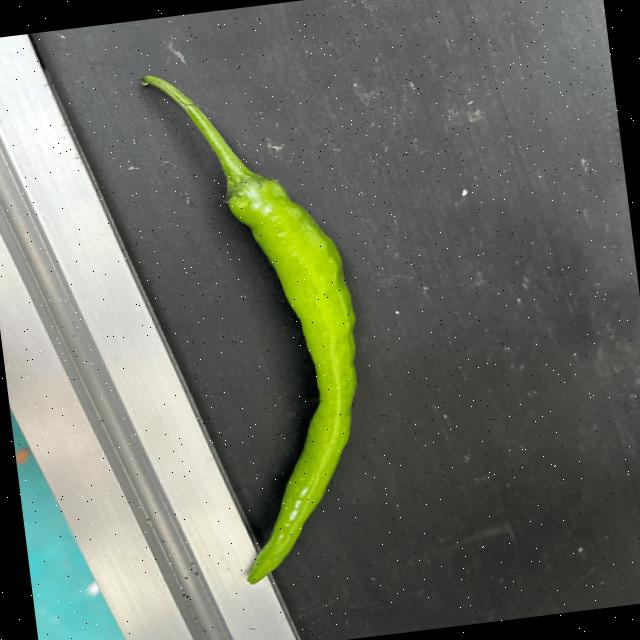chili: (222, 167, 359, 586)
